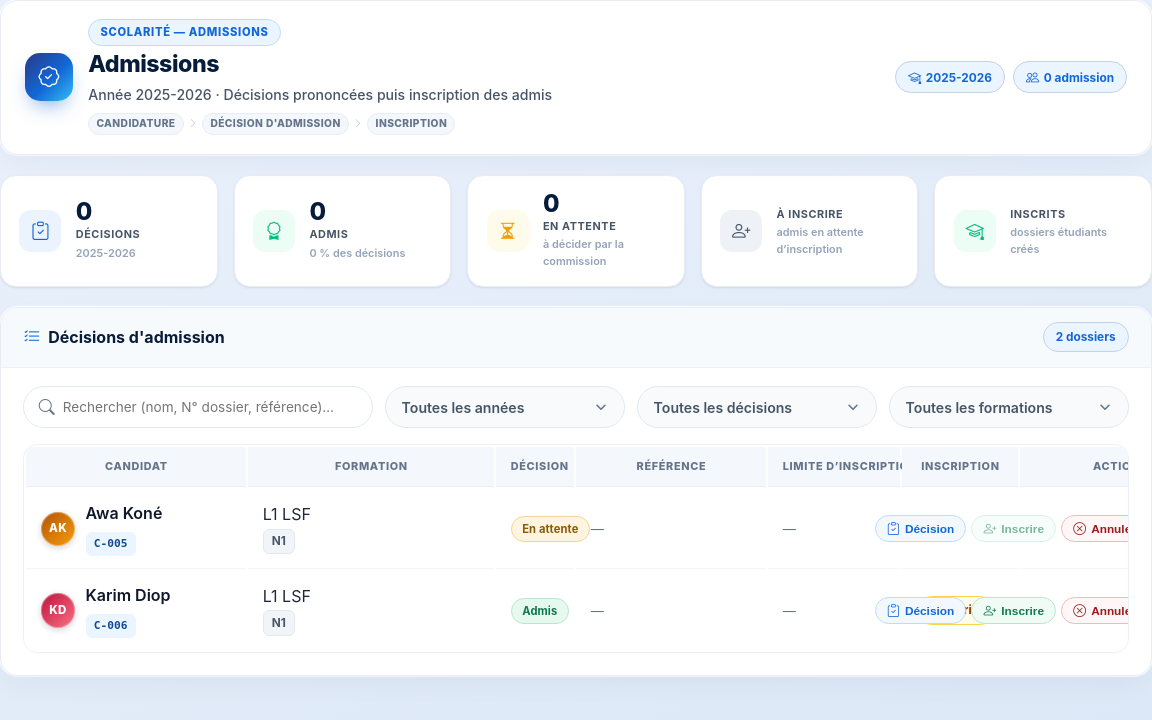
Scenario: pages/scolarite/Admissions — panneau Décision (écritures) › enregistre le profil administratif (PATCH catégorie/grade liés)
The image size is (1152, 720).
Expected: the text "Awa Koné" is shown, left=86, top=501, right=162, bottom=526
Click the button "Décision" in the row of "AK": (921, 529) left=875, top=515, right=966, bottom=542
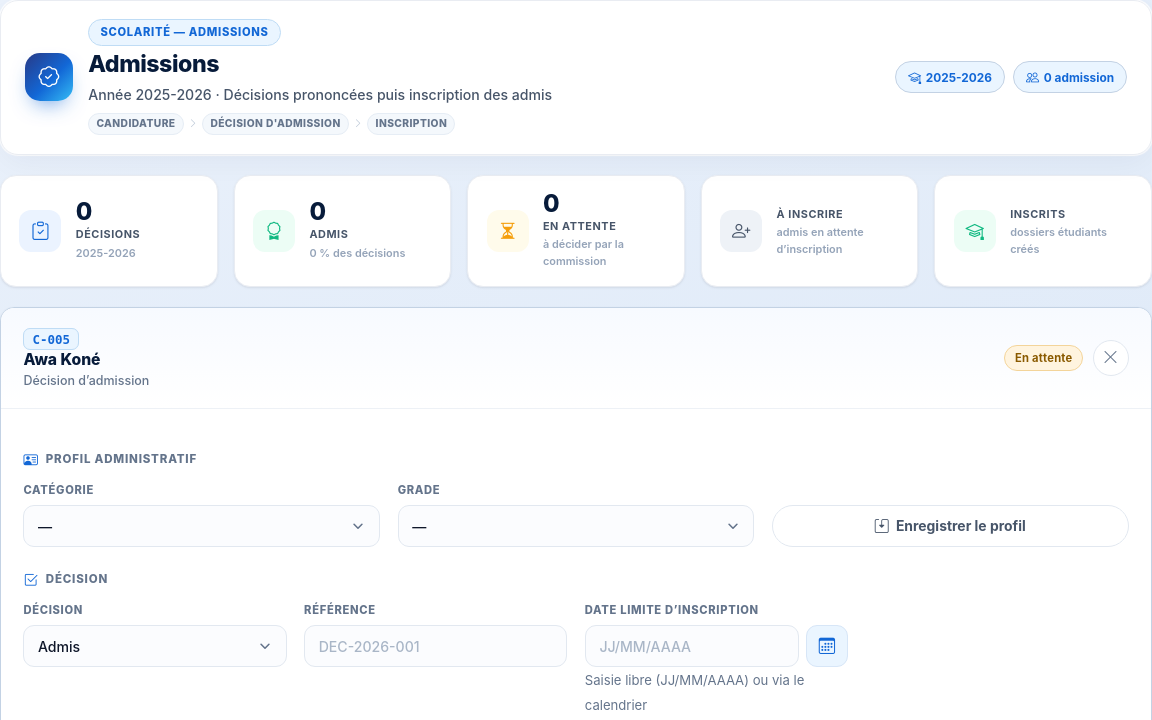
Select "Catégorie A" in the dropdown labelled "Catégorie": (202, 526) left=23, top=505, right=380, bottom=547
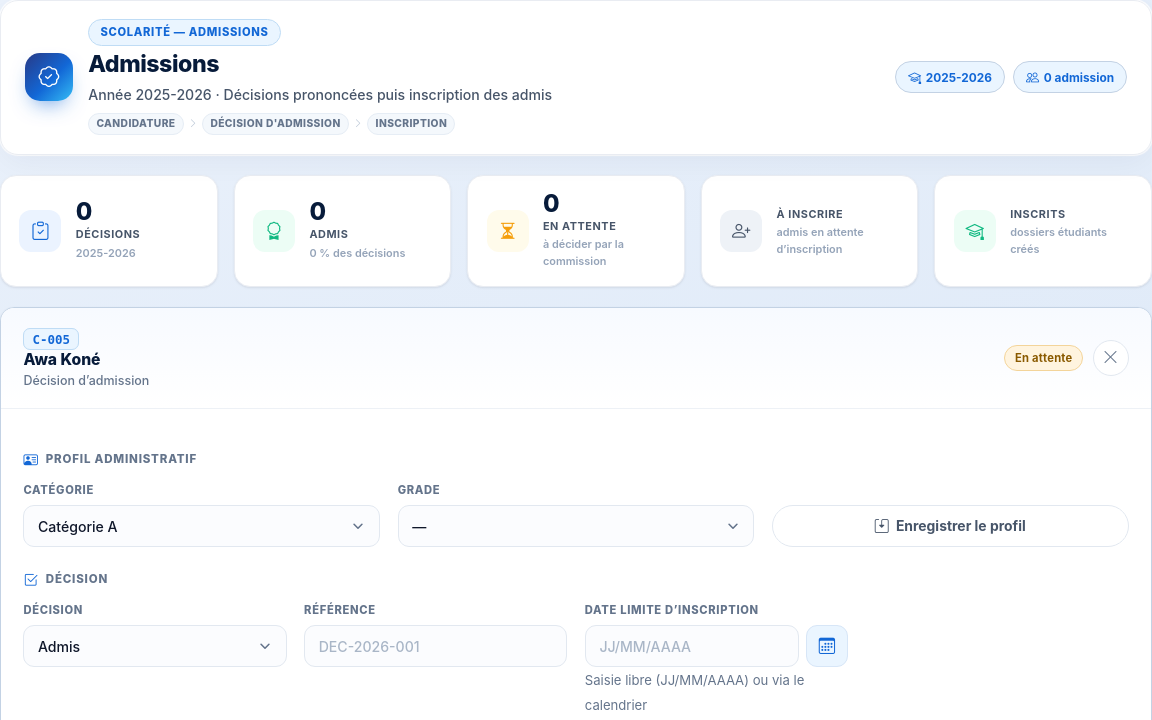
Select "Grade 1" in the dropdown labelled "Grade": (576, 526) left=398, top=505, right=754, bottom=547
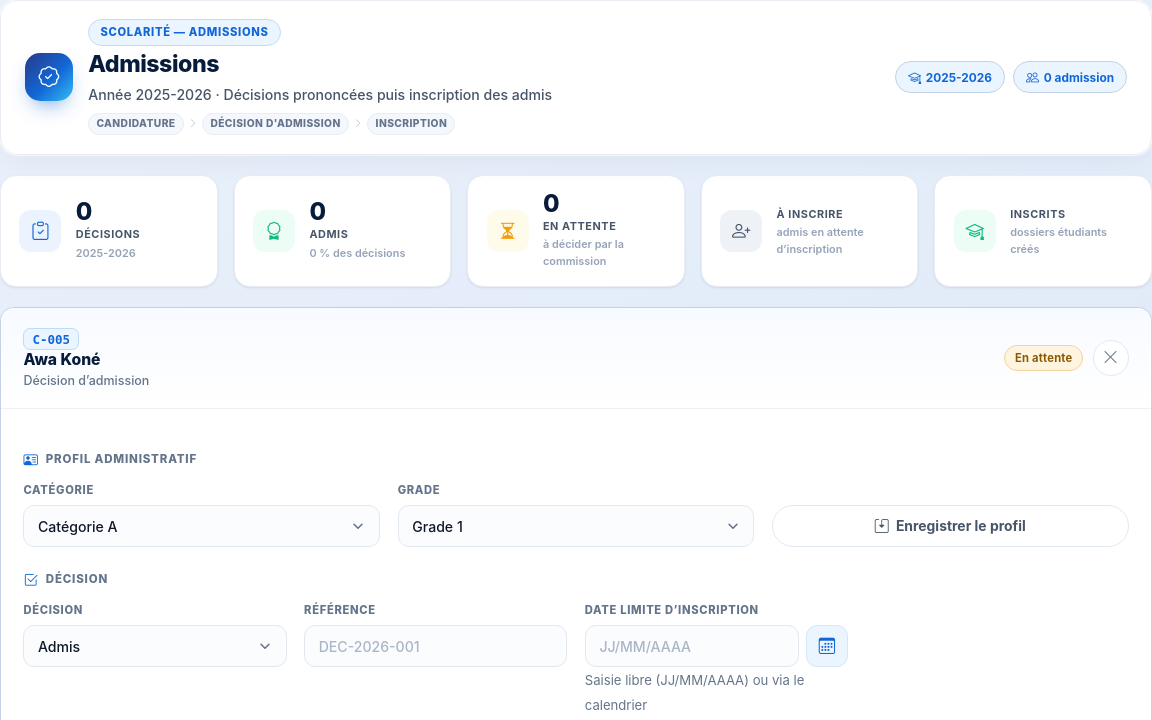
Click the button "Enregistrer le profil": (950, 526) left=772, top=505, right=1129, bottom=547
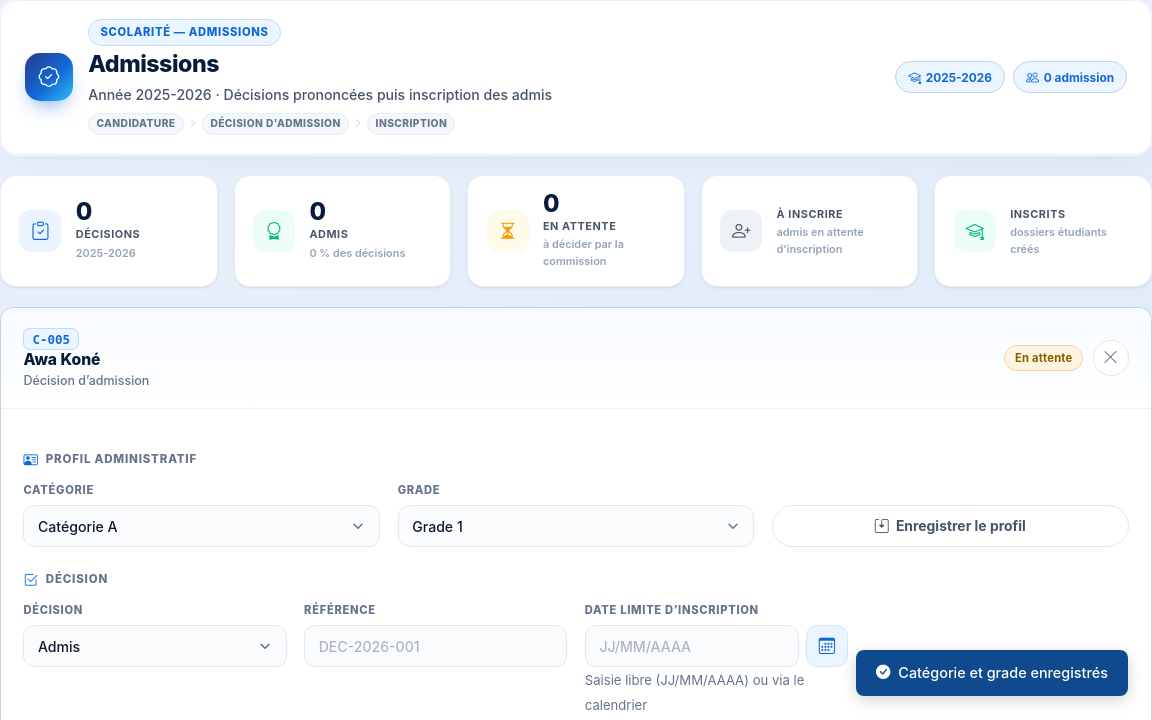
Now the text "Catégorie et grade enregistrés" is shown, box left=856, top=650, right=1128, bottom=696
